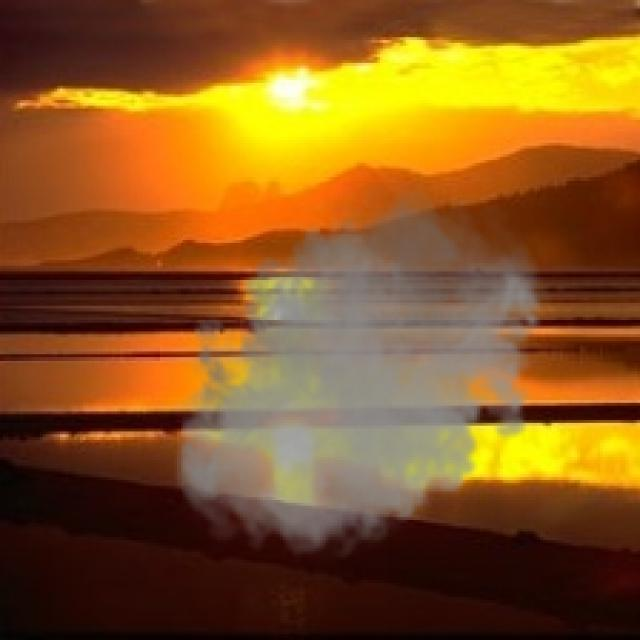smoke: (169, 177, 554, 566)
